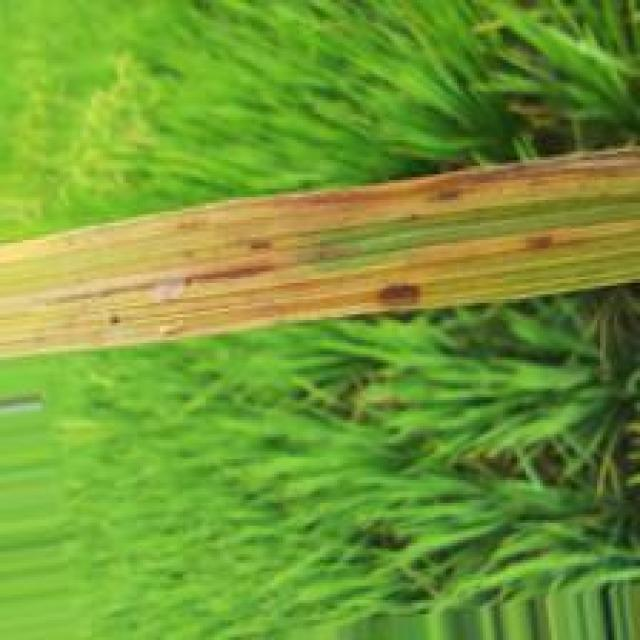Leaf_Blast: (220, 155, 636, 216), (35, 261, 281, 312), (365, 280, 424, 312)
